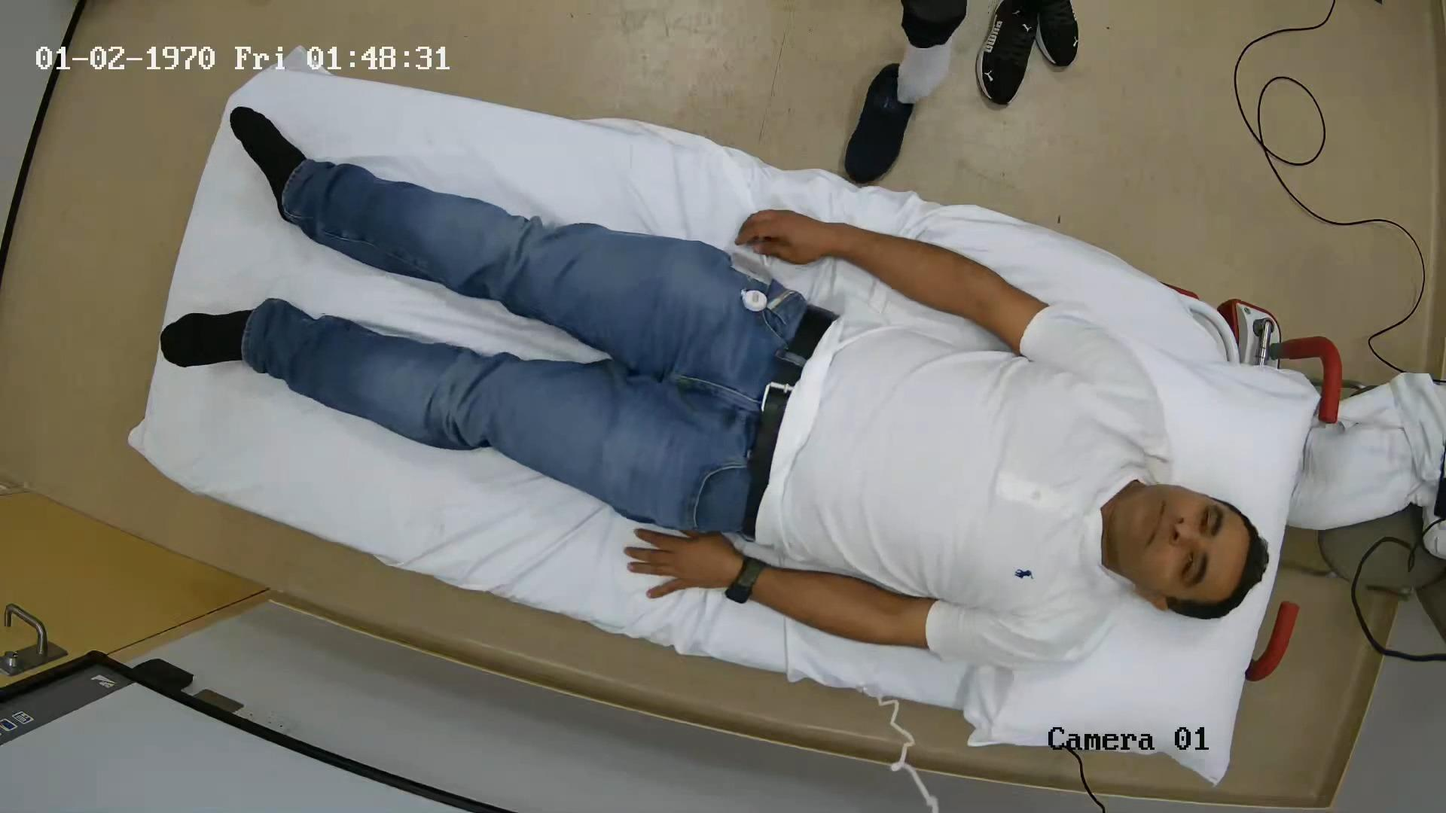bed: (130, 71, 1341, 772)
patient: (160, 107, 1268, 664)
